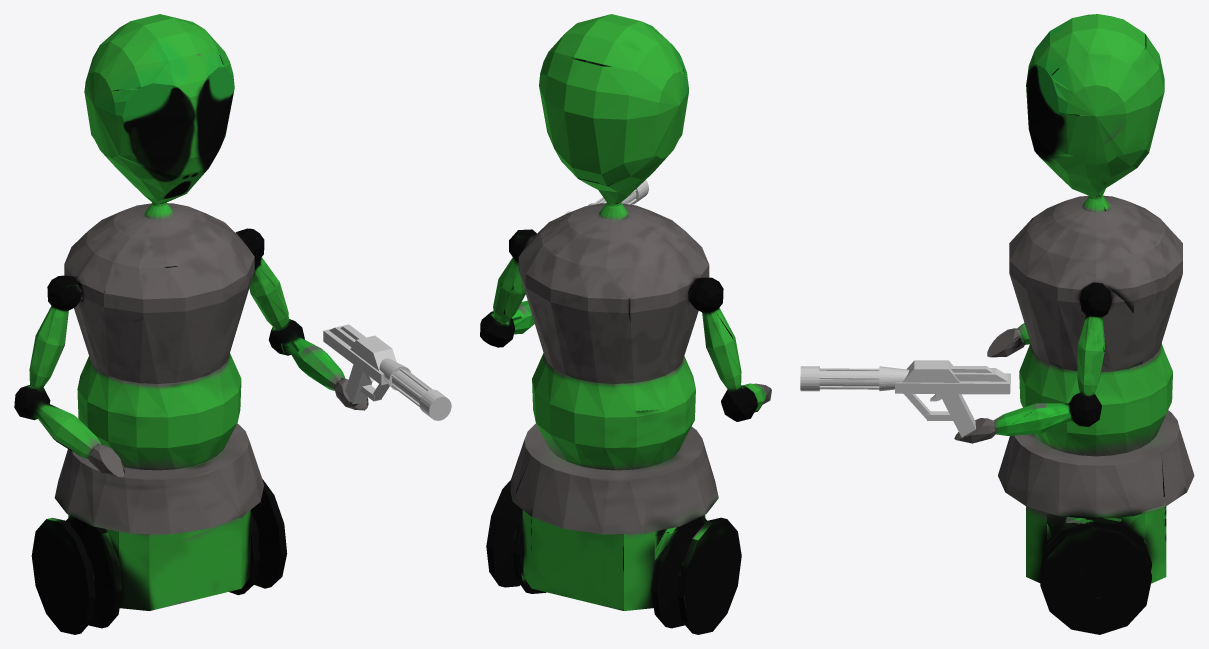
Rendered from Alien.fbx.
3 views of the same model, side by side, from view 1: azimuth 30°, elevation 25°; view 2: azimuth 150°, elevation 25°; view 3: azimuth 270°, elevation 25° (orthographic). The views are drawn at different scales.
Visible parts, largest first — view 1: alien, Cylinder.002; view 2: alien; view 3: alien, Cylinder.002.
Part boxes in pixels (left/top/right/bottom): alien: left=14, top=14, right=368, bottom=634; Cylinder.002: left=323, top=324, right=451, bottom=420; alien: left=480, top=14, right=771, bottom=634; alien: left=954, top=14, right=1194, bottom=634; Cylinder.002: left=800, top=360, right=1010, bottom=437.
Size of the model in its own units: 83.01 by 163 by 103.
